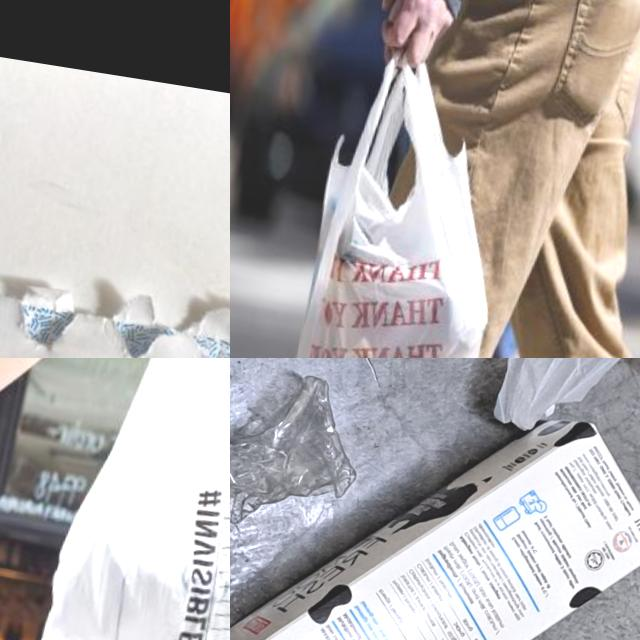caixinha: (230, 369, 640, 640)
garrafa plástica: (230, 358, 372, 547)
papel: (0, 199, 230, 358)
sacola plástica: (254, 29, 528, 358), (25, 358, 230, 640), (488, 358, 640, 454)
